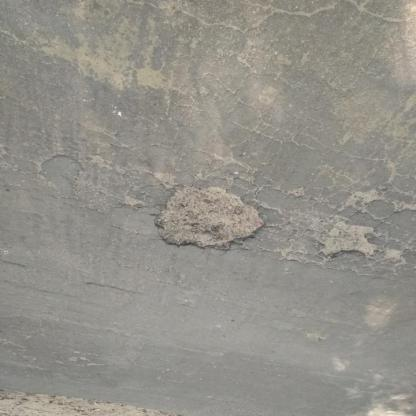pothole: (155, 186, 269, 254), (318, 223, 381, 263)
